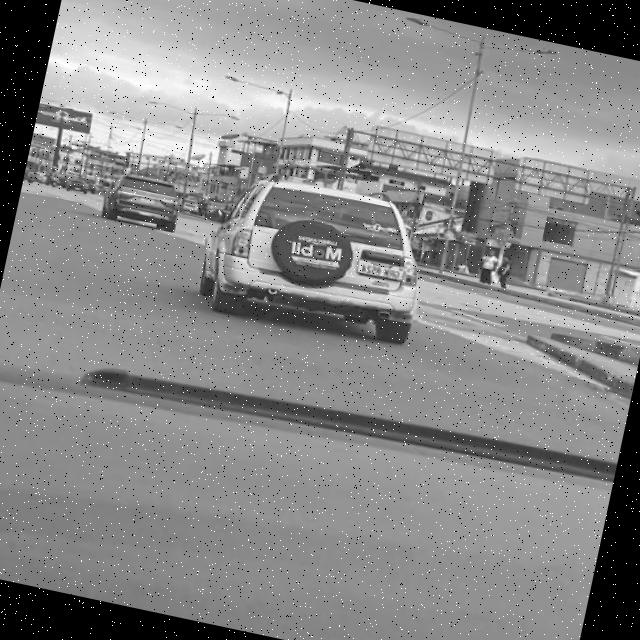Placa: (358, 259, 404, 280)
